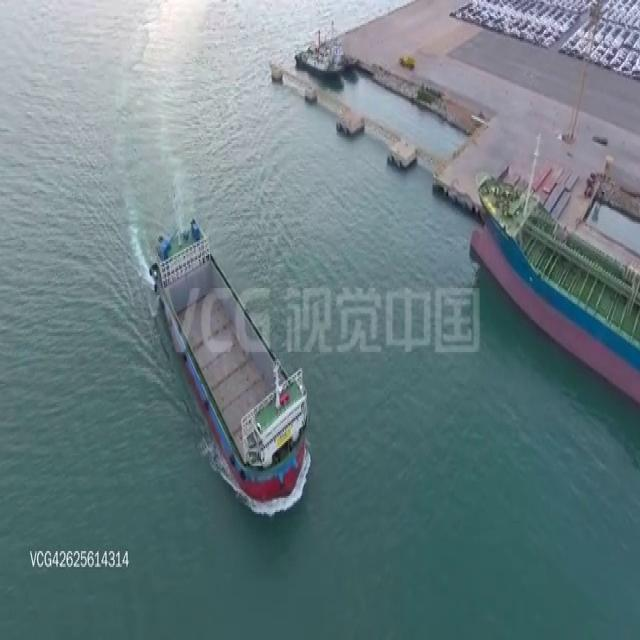cargoship: (153, 220, 313, 502), (472, 168, 640, 405)
houseboat: (296, 25, 348, 79)
